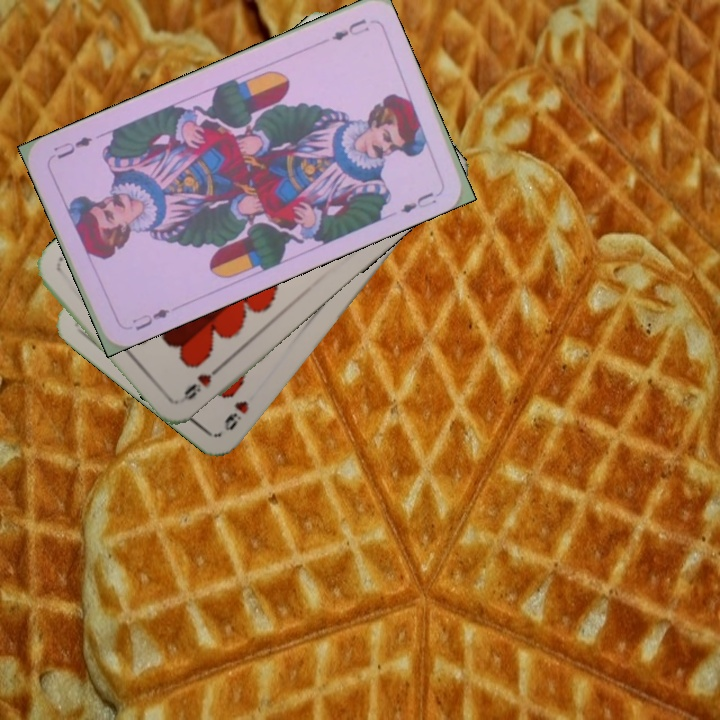EU: (128, 304, 172, 334), (327, 15, 372, 43)
H9: (177, 360, 226, 404), (219, 396, 252, 434)
